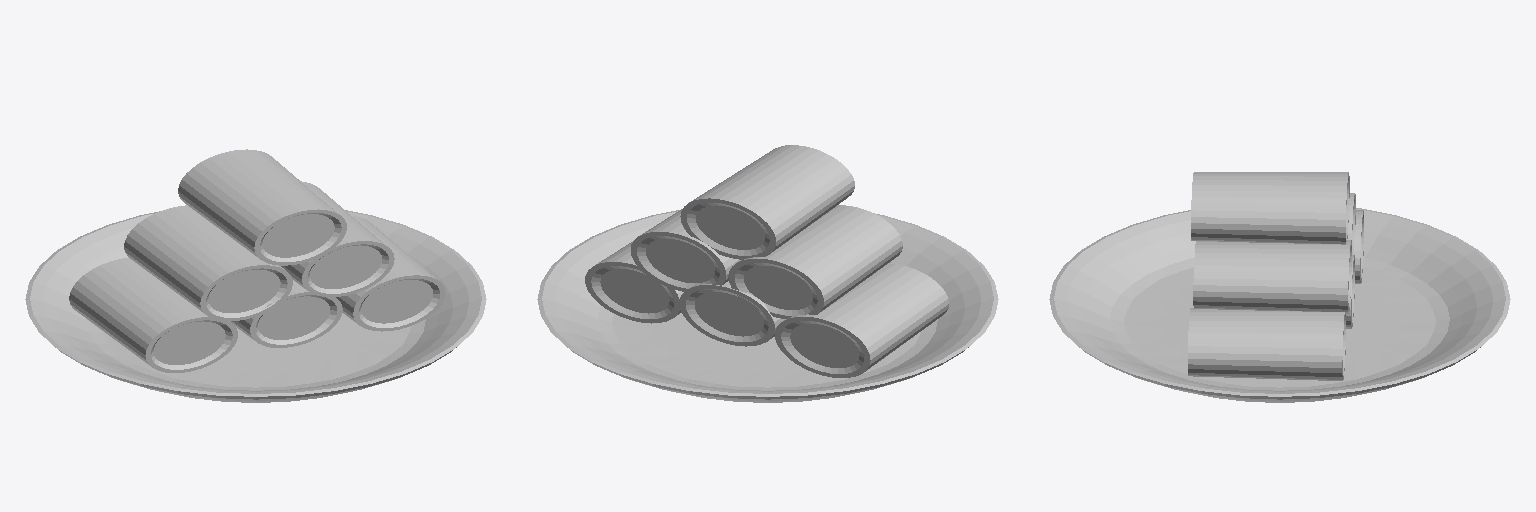
Rendered from DADAR GULUNG.obj.
The picture shows the model from 3 angles: view 1: azimuth 30°, elevation 25°; view 2: azimuth 150°, elevation 25°; view 3: azimuth 270°, elevation 25°; orthographic projection.
Parts seen in each view (by area): view 1: Cylinder, Cylinder.005, Cylinder.003, Cylinder.016, Cylinder.002, Cylinder.004, Cylinder.001; view 2: Cylinder, Cylinder.005, Cylinder.016, Cylinder.003, Cylinder.004, Cylinder.002, Cylinder.001; view 3: Cylinder, Cylinder.005, Cylinder.002, Cylinder.004, Cylinder.016.
Boxes of the visible parts, <box> form: Cylinder: <box>25,210,486,402</box>; Cylinder.005: <box>178,149,346,265</box>; Cylinder.003: <box>124,205,292,320</box>; Cylinder.016: <box>69,257,237,372</box>; Cylinder.002: <box>336,216,445,331</box>; Cylinder.004: <box>281,181,394,296</box>; Cylinder.001: <box>230,280,342,347</box>; Cylinder: <box>537,210,998,402</box>; Cylinder.005: <box>680,145,854,259</box>; Cylinder.016: <box>775,263,948,377</box>; Cylinder.003: <box>728,205,902,318</box>; Cylinder.004: <box>631,209,740,292</box>; Cylinder.002: <box>585,242,683,323</box>; Cylinder.001: <box>679,281,785,346</box>; Cylinder: <box>1049,208,1510,402</box>; Cylinder.005: <box>1191,172,1349,244</box>; Cylinder.002: <box>1188,308,1345,380</box>; Cylinder.004: <box>1193,240,1351,313</box>; Cylinder.016: <box>1354,210,1363,283</box>.
Bounding box in the file's own units: 2.31 × 0.8635 × 2.31.